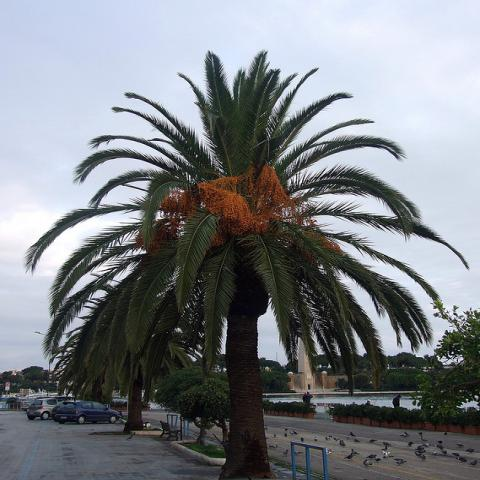car: (56, 401, 124, 425), (25, 396, 68, 421), (0, 396, 22, 411), (21, 400, 33, 411)
